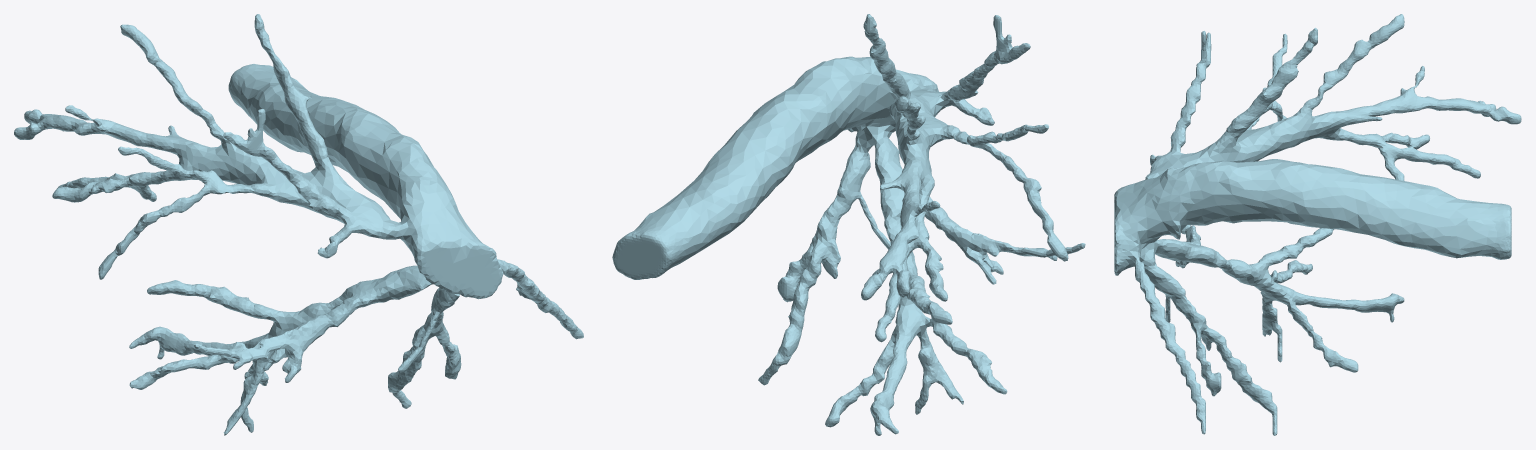
The model's file is venacava.obj.
3 views of the same model, side by side, from view 1: azimuth 30°, elevation 25°; view 2: azimuth 150°, elevation 25°; view 3: azimuth 270°, elevation 25° (orthographic). The views are drawn at different scales.
Parts seen in each view (by area): view 1: grp1; view 2: grp1; view 3: grp1.
Part boxes in pixels (bbox=[...]): grp1: bbox=[14, 14, 583, 435]; grp1: bbox=[612, 14, 1085, 435]; grp1: bbox=[1114, 14, 1521, 435].
Bounding box in the file's own units: 138 × 123 × 128.
